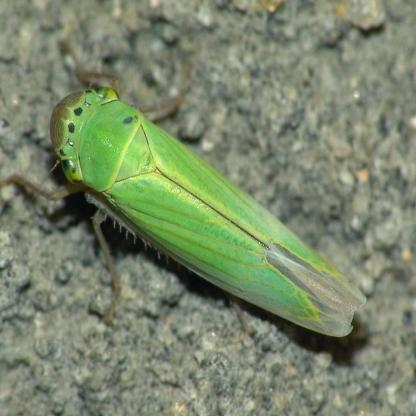Green-Leafhopper: (9, 40, 367, 346)
